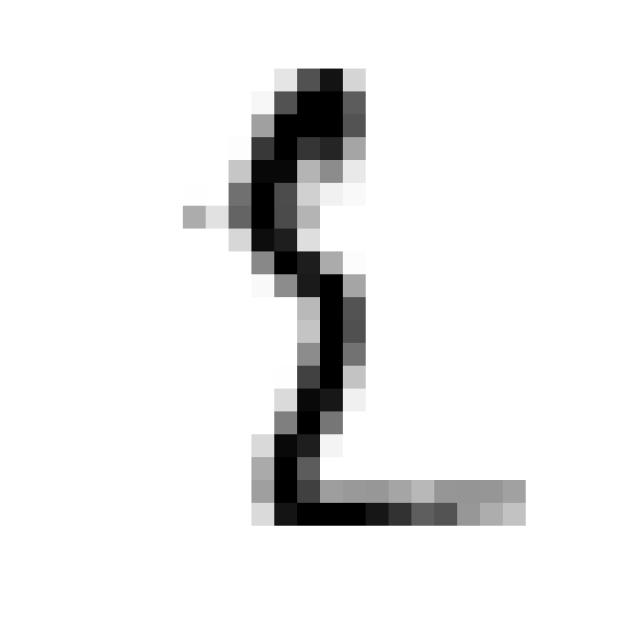4 -four-: (206, 57, 551, 565)
